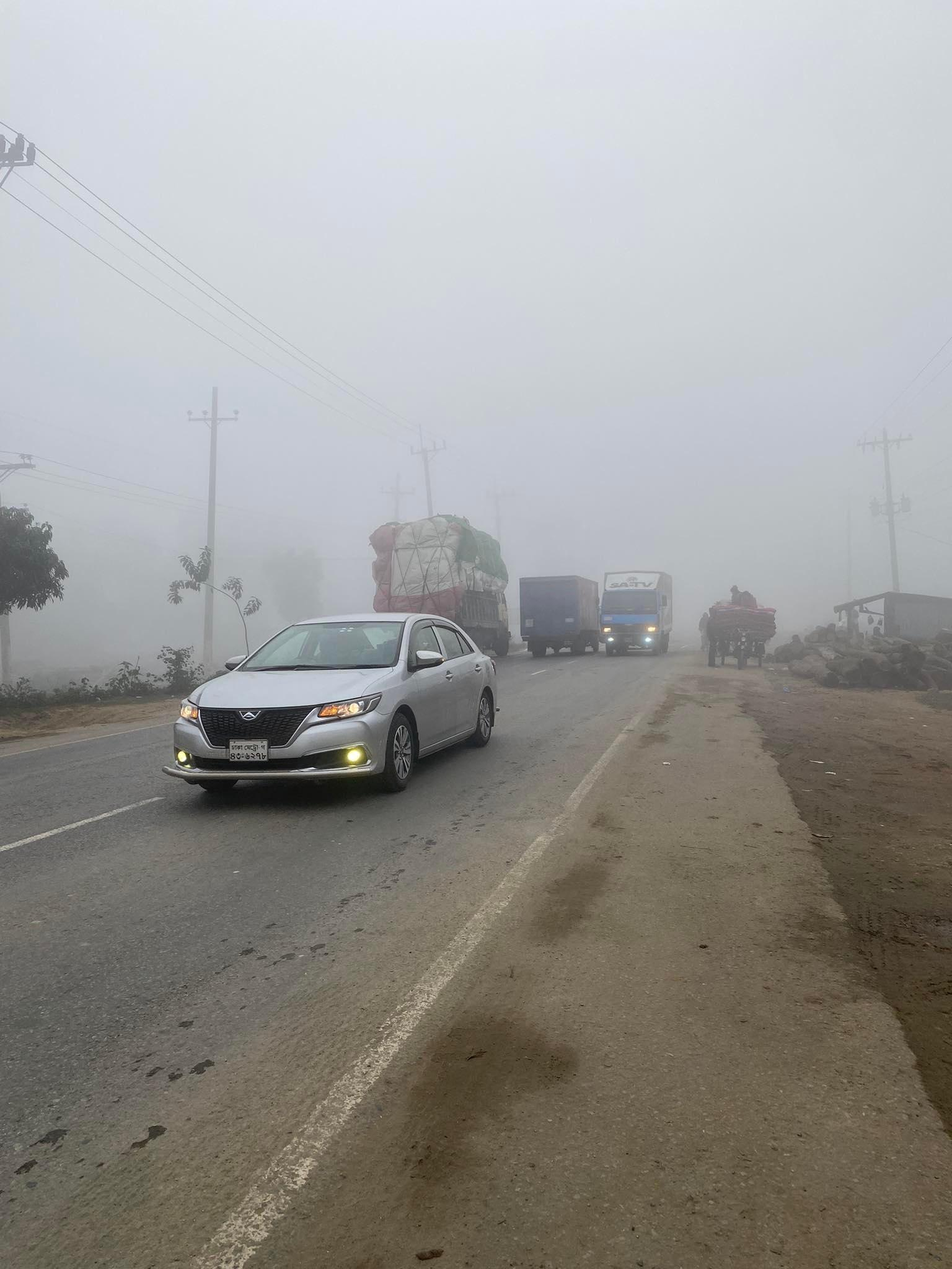Car: (155, 534, 526, 856)
Truck: (362, 514, 527, 666), (589, 561, 688, 687), (514, 567, 609, 679)
